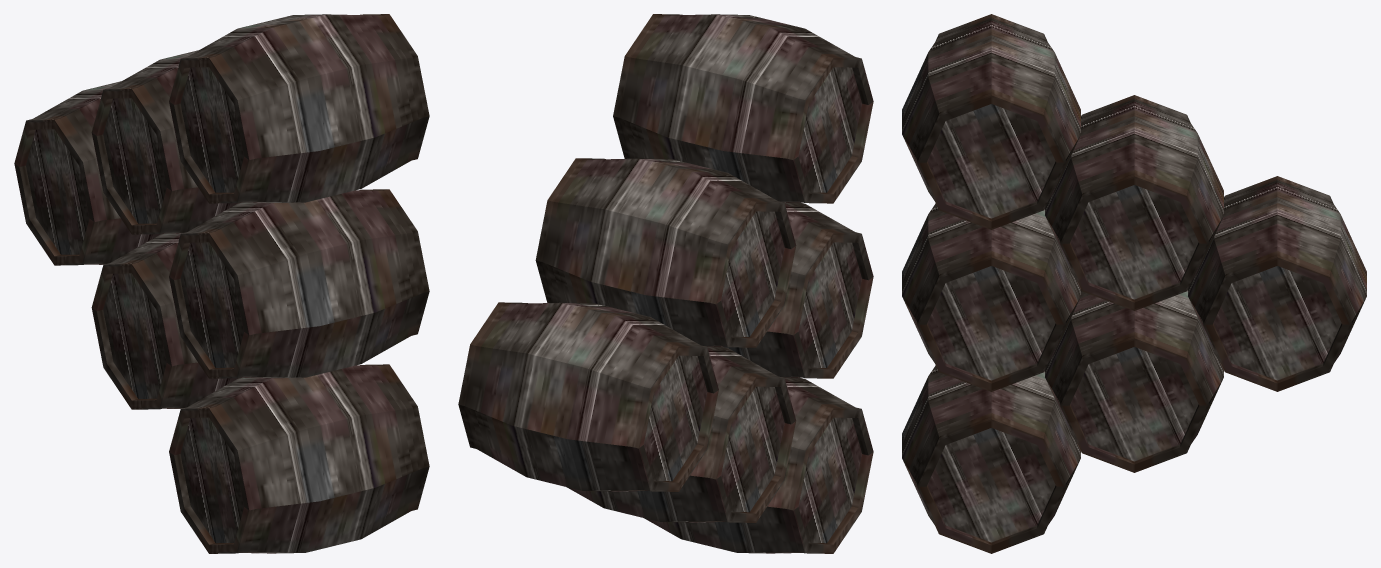
The model's file is DrumSet.fbx.
3 views of the same model, side by side, from view 1: azimuth 30°, elevation 25°; view 2: azimuth 150°, elevation 25°; view 3: azimuth 270°, elevation 25° (orthographic). The views are drawn at different scales.
Visible parts, largest first — view 1: Component1; view 2: Component1; view 3: Component1.
Boxes of the visible parts, x1=… form: Component1: x1=14, y1=14, x2=429, y2=553; Component1: x1=458, y1=14, x2=873, y2=553; Component1: x1=902, y1=14, x2=1366, y2=553.
Bounding box in the file's own units: 108 × 300 × 260.
